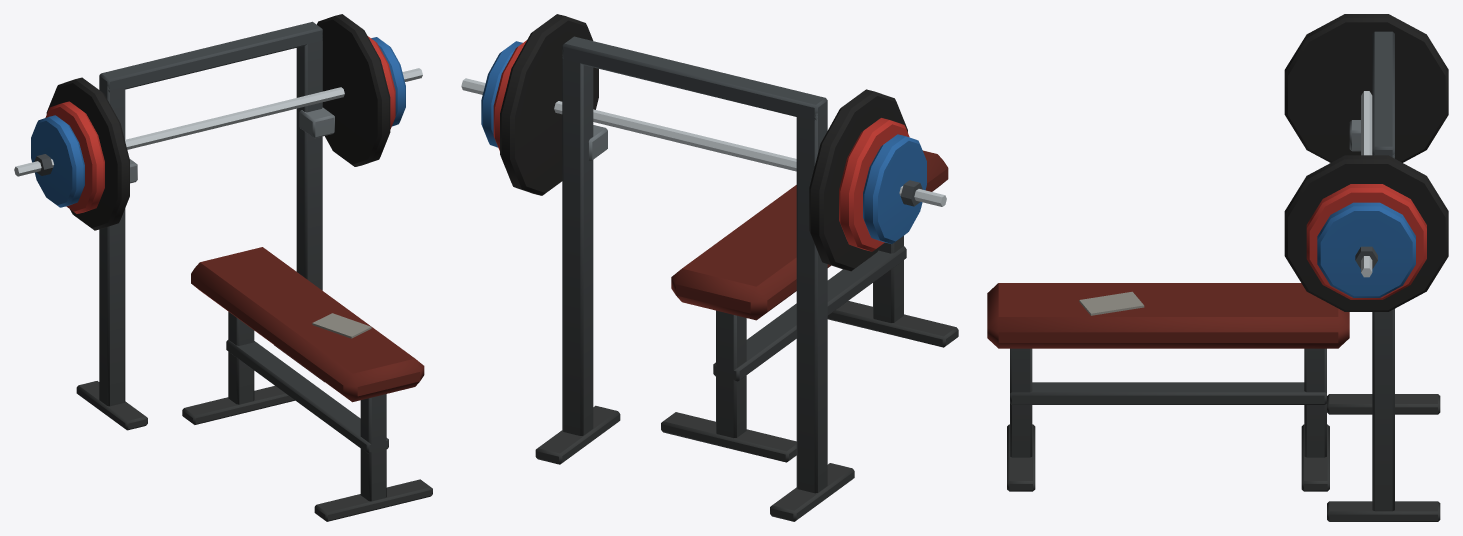
Rendered from 89_banc_muscu.fbx.
3 views of the same model, side by side, from view 1: azimuth 30°, elevation 25°; view 2: azimuth 150°, elevation 25°; view 3: azimuth 270°, elevation 25° (orthographic). The views are drawn at different scales.
Visible parts, largest first — view 1: Banc, Disques, Barre; view 2: Banc, Disques, Barre; view 3: Banc, Disques, Barre.
Boxes of the visible parts, left/top/right/bottom form: Banc: left=76, top=21, right=432, bottom=521; Disques: left=31, top=14, right=405, bottom=230; Barre: left=14, top=68, right=422, bottom=176; Banc: left=535, top=36, right=958, bottom=521; Disques: left=481, top=14, right=926, bottom=271; Barre: left=461, top=78, right=946, bottom=206; Banc: left=987, top=31, right=1440, bottom=521; Disques: left=1284, top=14, right=1448, bottom=311; Barre: left=1361, top=91, right=1372, bottom=277.
Bounding box in the file's own units: 1.26 × 1.01 × 1.12.
Materials: 1 (1 with a texture image).
